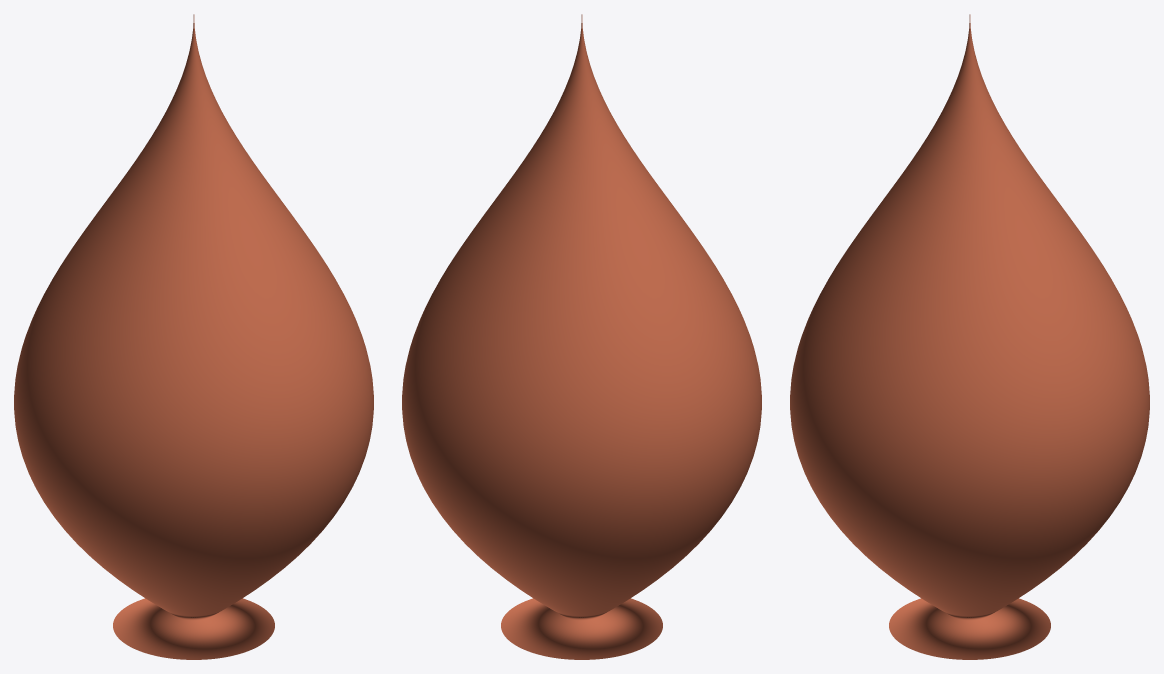
The model's file is escultura-gota.glb.
3 renders of one model, left to right at view 1: azimuth 30°, elevation 25°; view 2: azimuth 150°, elevation 25°; view 3: azimuth 270°, elevation 25°, orthographic.
Parts seen in each view (by area): view 1: escultura-gota; view 2: escultura-gota; view 3: escultura-gota.
Part boxes in pixels (box(x1,y1,x2,y2)): escultura-gota: box(14, 14, 373, 659); escultura-gota: box(402, 14, 761, 659); escultura-gota: box(790, 14, 1149, 659).
Size of the model in its own units: 0.16 by 0.3 by 0.16.
